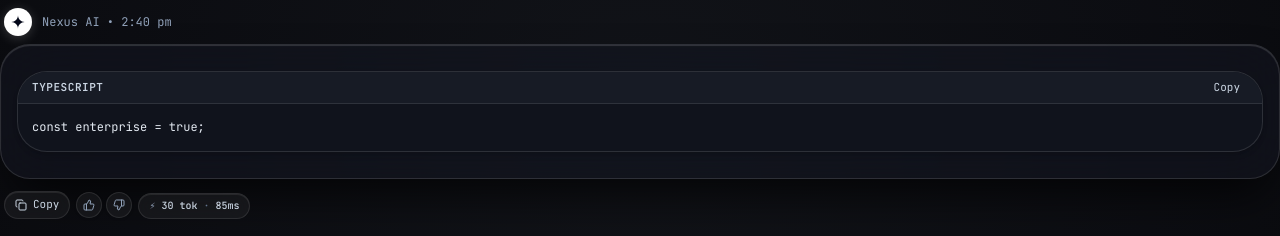
MessageBubble Markdown & Feature Rendering › renders fenced code blocks with language header and copy button
Click the button with aria-label "copy code to clipboard". click: (1227, 87)
box: [1206,78,1248,97]
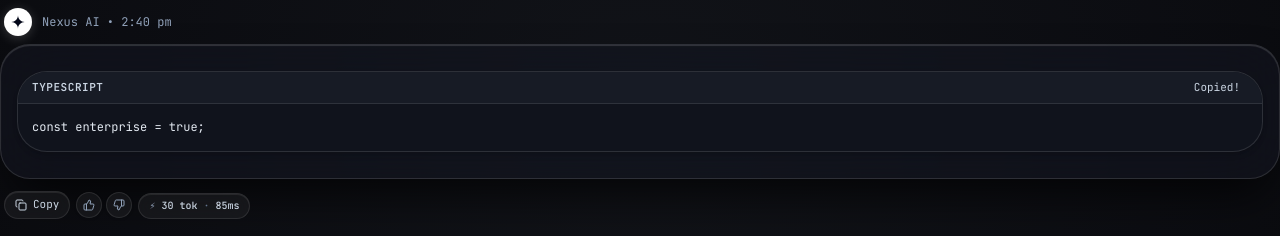
Expected: the button with aria-label "copy code to clipboard" reads "Copied!", [1186,78,1248,97]
